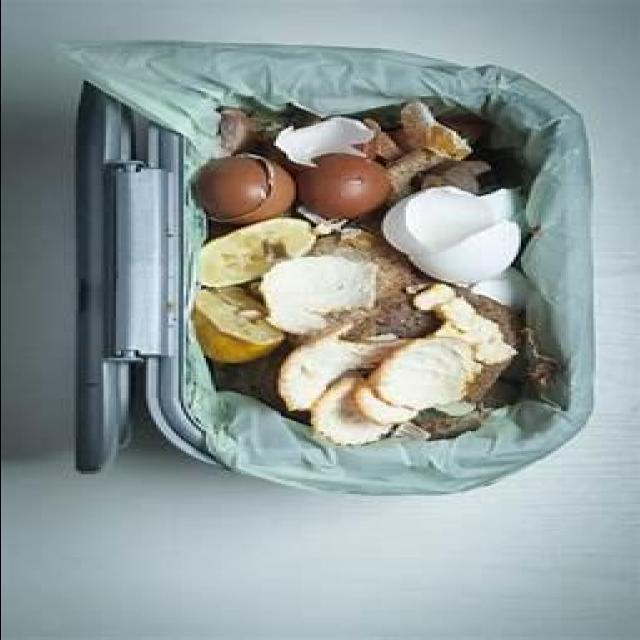Garbage: (191, 99, 539, 450)
